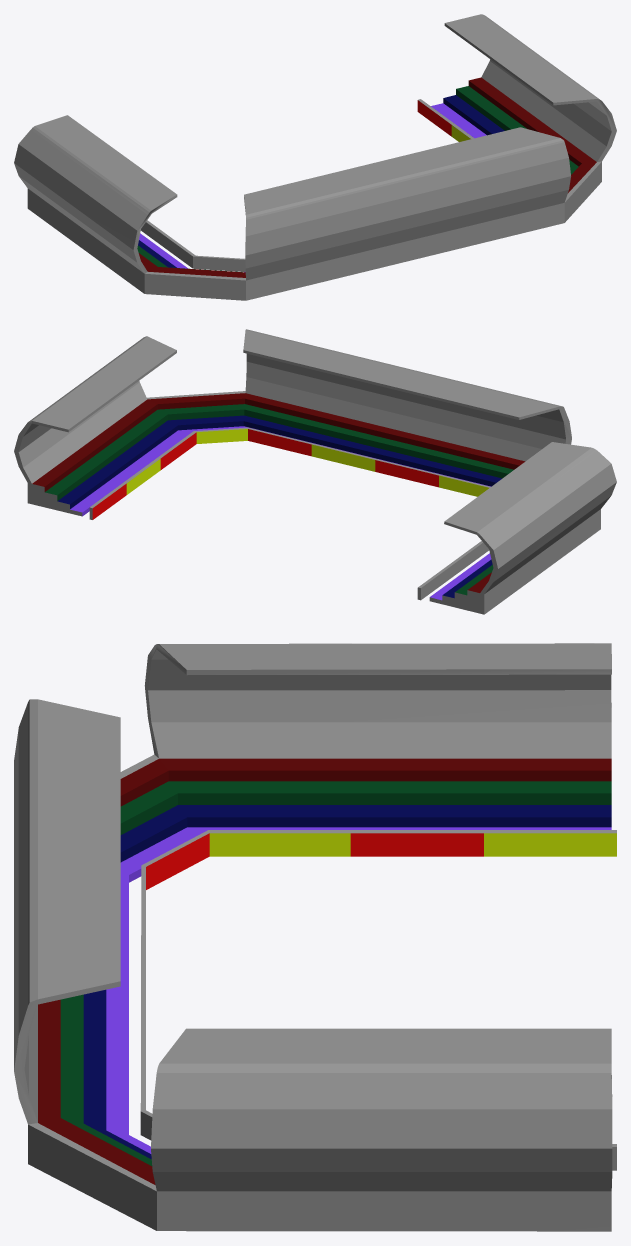
File: estadio_y_banner_publicidad (1).FBX
3 renders of one model, top to bottom at view 1: azimuth 30°, elevation 25°; view 2: azimuth 150°, elevation 25°; view 3: azimuth 270°, elevation 25°, orthographic. The views are drawn at different scales.
Parts seen in each view (by area): view 1: Group001; view 2: Group001; view 3: Group001.
Boxes of the visible parts, bbox=[...] form: Group001: bbox=[14, 14, 616, 300]; Group001: bbox=[14, 329, 616, 614]; Group001: bbox=[14, 643, 616, 1231].
Size of the model in its own units: 262 by 43.3 by 144.
